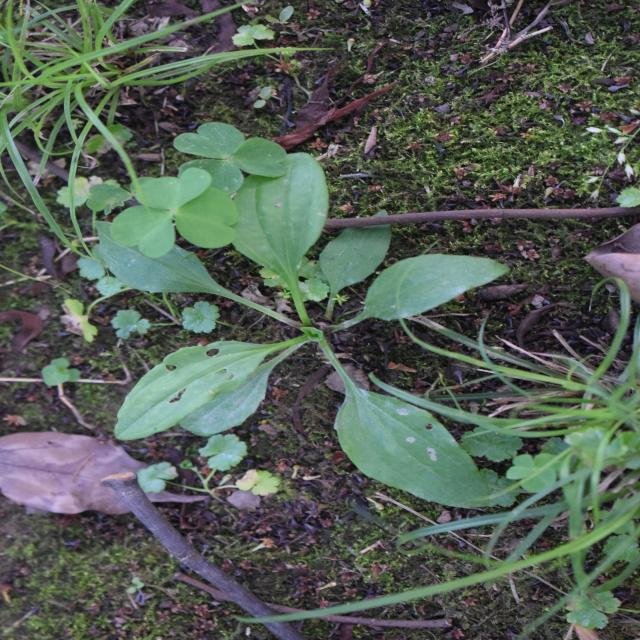plantain: (143, 139, 481, 492)
